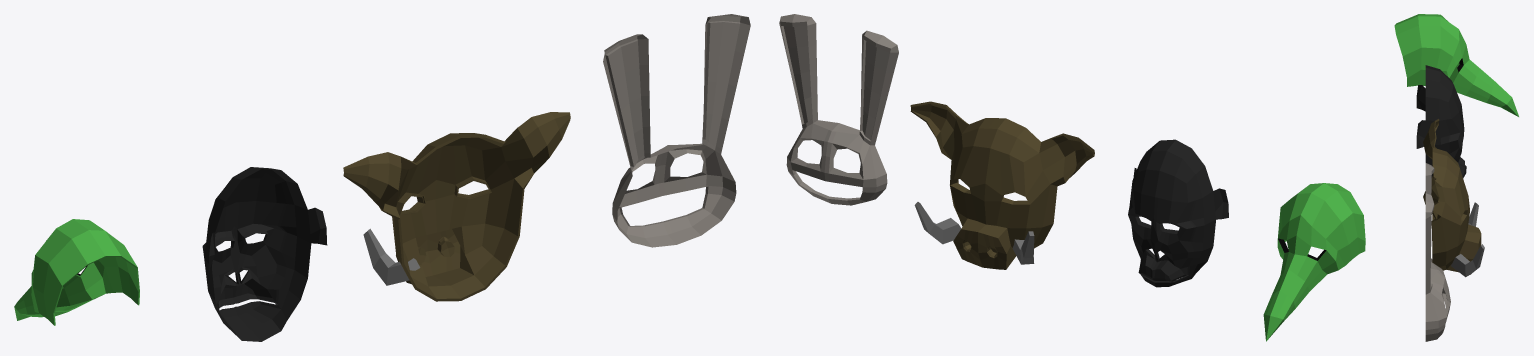
The model's file is Masks.fbx.
3 views of the same model, side by side, from view 1: azimuth 30°, elevation 25°; view 2: azimuth 150°, elevation 25°; view 3: azimuth 270°, elevation 25° (orthographic). The views are drawn at different scales.
Parts seen in each view (by area): view 1: Cube.001, Cube, Cube.003, Plane, Cube.002; view 2: Cube.001, Cube, Cube.003, Plane, Cube.002; view 3: Plane, Cube.001, Cube.003, Cube, Cube.002.
Part boxes in pixels (<box>): Cube.001: <box>343,112,570,301</box>; Cube: <box>603,14,750,247</box>; Cube.003: <box>202,167,327,341</box>; Plane: <box>14,219,139,325</box>; Cube.002: <box>363,228,420,285</box>; Cube.001: <box>910,101,1094,269</box>; Cube: <box>779,14,898,205</box>; Cube.003: <box>1128,139,1228,287</box>; Plane: <box>1263,183,1365,341</box>; Cube.002: <box>914,202,1034,264</box>; Plane: <box>1394,14,1518,116</box>; Cube.001: <box>1423,119,1481,274</box>; Cube.003: <box>1416,65,1466,178</box>; Cube: <box>1425,163,1450,341</box>; Cube.002: <box>1451,202,1484,277</box>.
Size of the model in its own units: 938 by 287 by 202.
